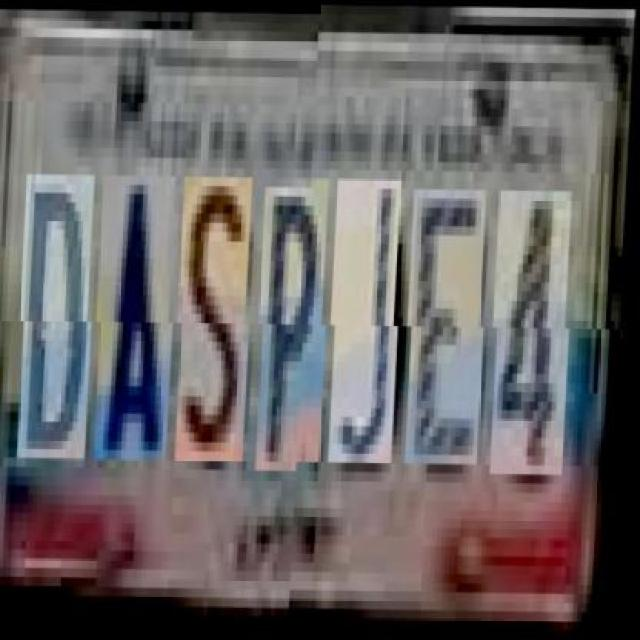4: (494, 198, 578, 482)
a: (98, 176, 182, 459)
d: (22, 175, 102, 458)
e: (410, 197, 492, 472)
j: (332, 187, 408, 471)
p: (260, 185, 335, 470)
s: (179, 176, 259, 459)
